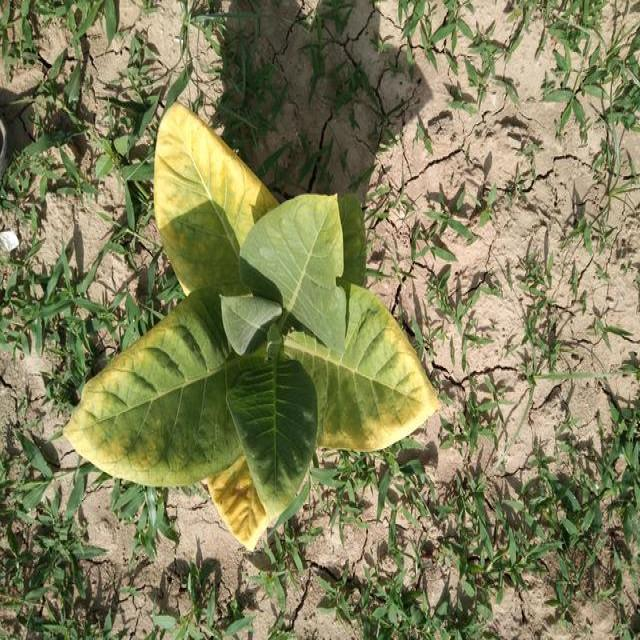crop: (65, 100, 441, 570)
